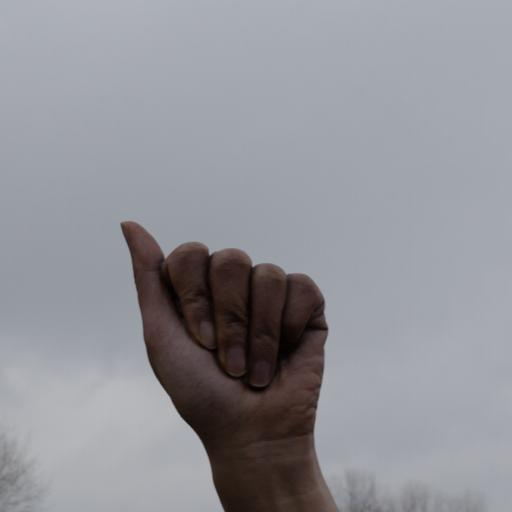A: (113, 214, 331, 431)
